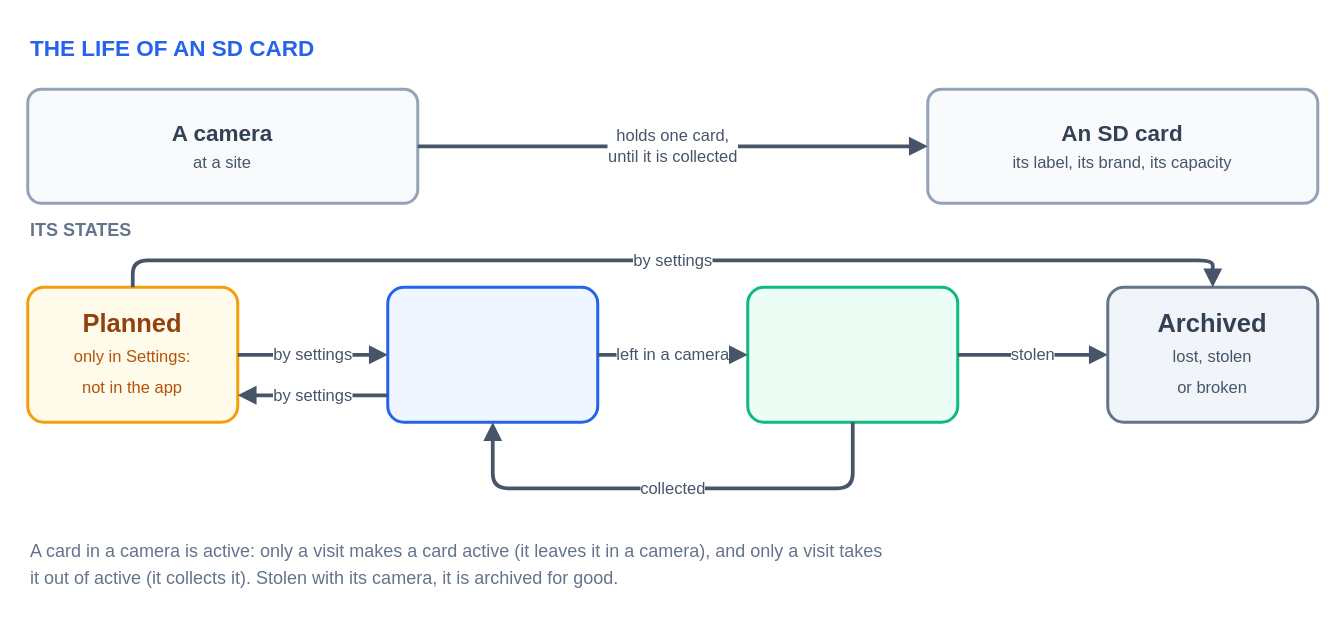
The diagram is 1344 pixels wide and 621 high, and some of its shapes have lost their labels. Each missing label, with the centre of its shape:
"Active in a camera in the field" goes at pixel 852 354.
"Ready free: in no camera" goes at pixel 492 354.
